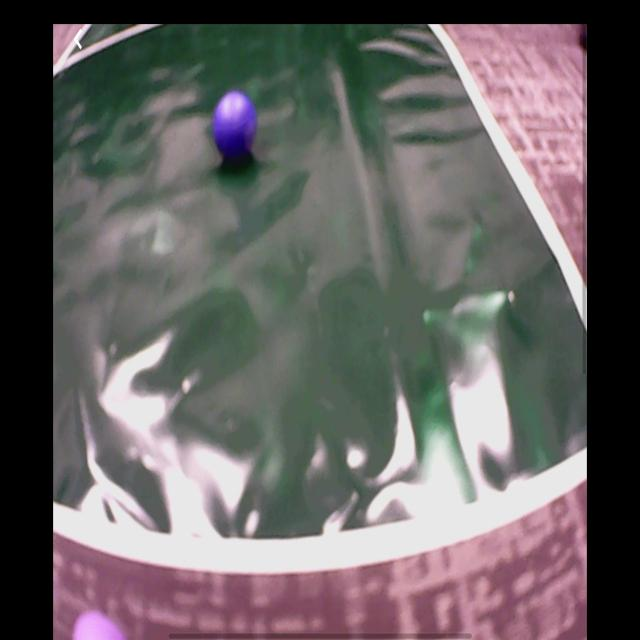ball: (213, 92, 258, 158), (70, 609, 130, 640)
